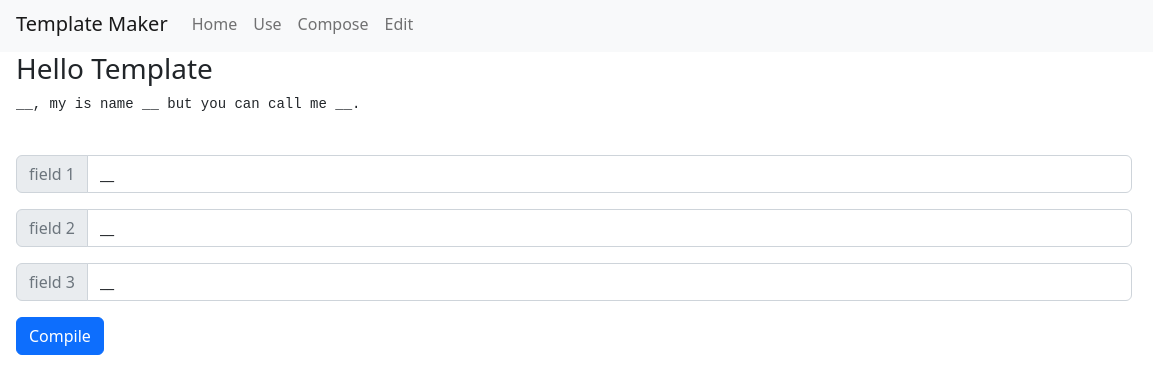
Test: Template Composition › adds __ back to empty field on focus loss
Focus the 1st field at coordinates (610, 174), box [87,155,1132,193]
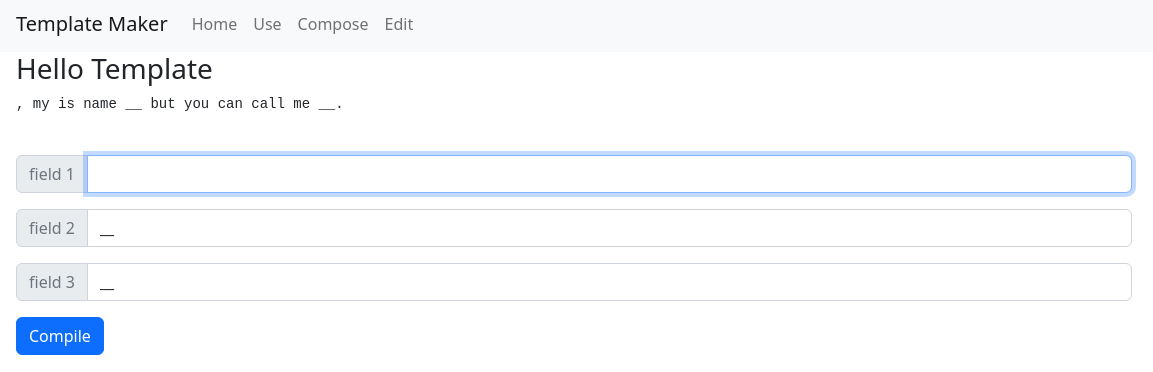
Leave the 1st field, box [87,155,1132,193]
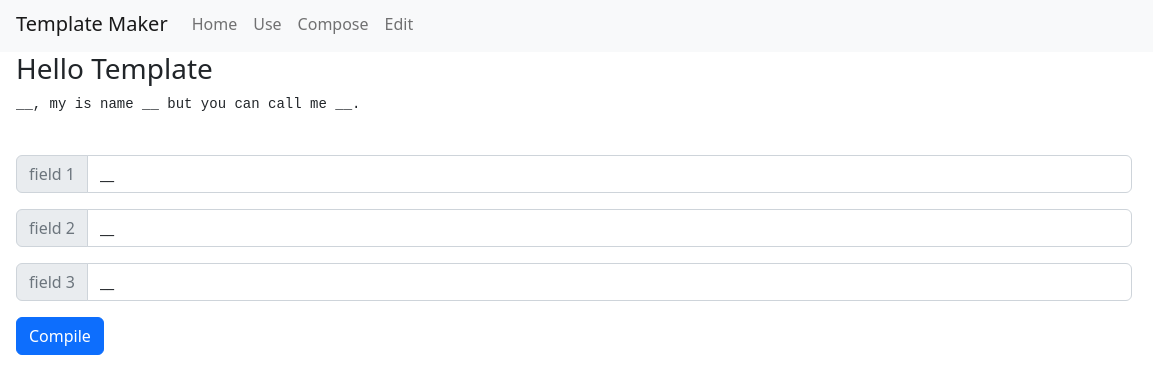
Check: the 1st field holds "__", box [87,155,1132,193]
